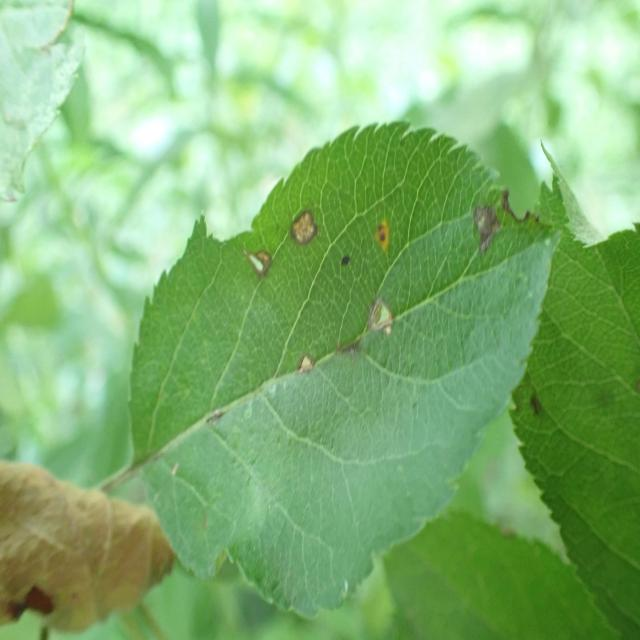frog-eye-leaf-spot: (129, 119, 563, 619)
